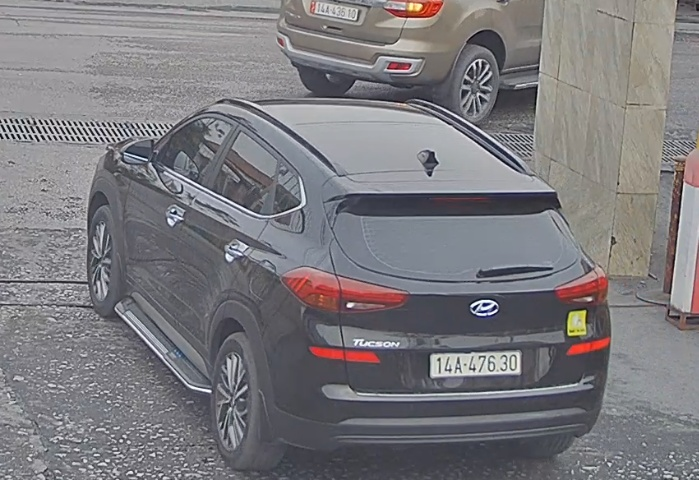vehicle plate: (425, 343, 527, 379)
